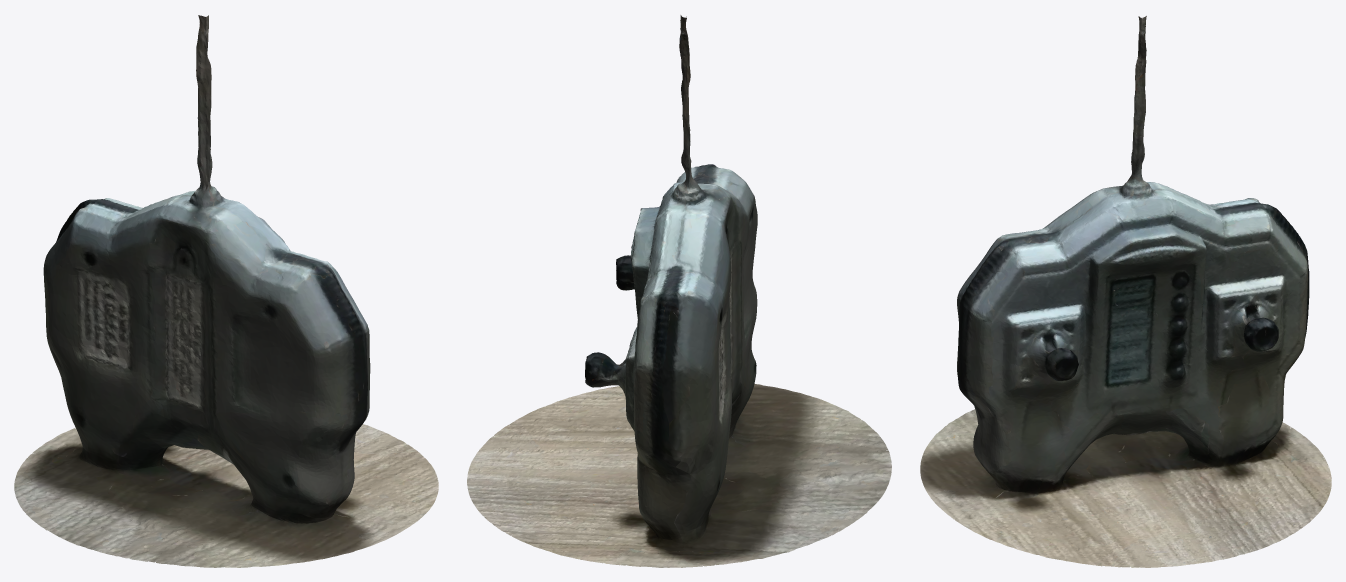
Rendered from remote-control-compressed.glb.
3 views of the same model, side by side, from view 1: azimuth 30°, elevation 25°; view 2: azimuth 150°, elevation 25°; view 3: azimuth 270°, elevation 25° (orthographic). The views are drawn at different scales.
Parts seen in each view (by area): view 1: mesh_0; view 2: mesh_0; view 3: mesh_0.
Boxes of the visible parts, x1,y1,x2,y2 form: mesh_0: (14, 15, 438, 567); mesh_0: (467, 15, 891, 567); mesh_0: (920, 16, 1331, 567).
Bounding box in the file's own units: 0.3355 × 0.4149 × 0.3355.
Materials: 1 (1 with a texture image).
